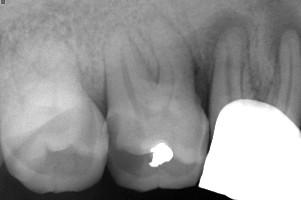Dental Caries: (185, 7, 254, 118), (246, 0, 301, 104)
